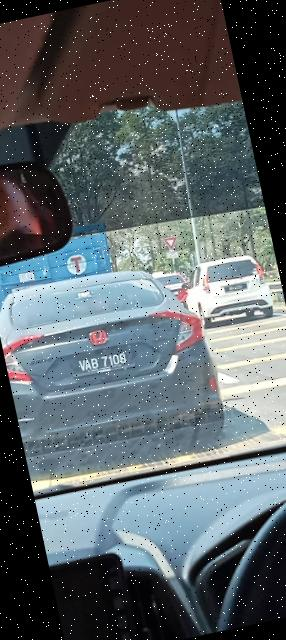License_Plate: (66, 338, 147, 383)
car: (1, 248, 228, 473)
